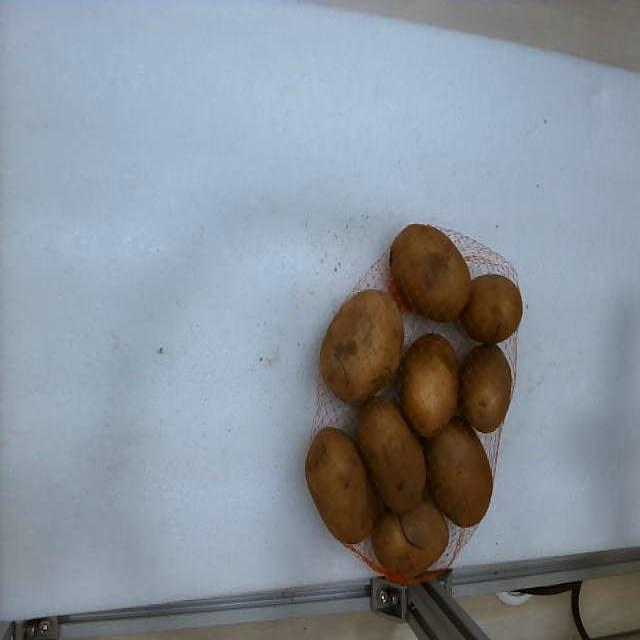potato: (320, 290, 402, 402), (306, 428, 379, 543), (358, 398, 426, 513), (390, 225, 470, 322), (425, 417, 492, 527), (400, 333, 459, 438), (372, 502, 448, 578), (460, 343, 512, 432), (461, 275, 522, 342)
